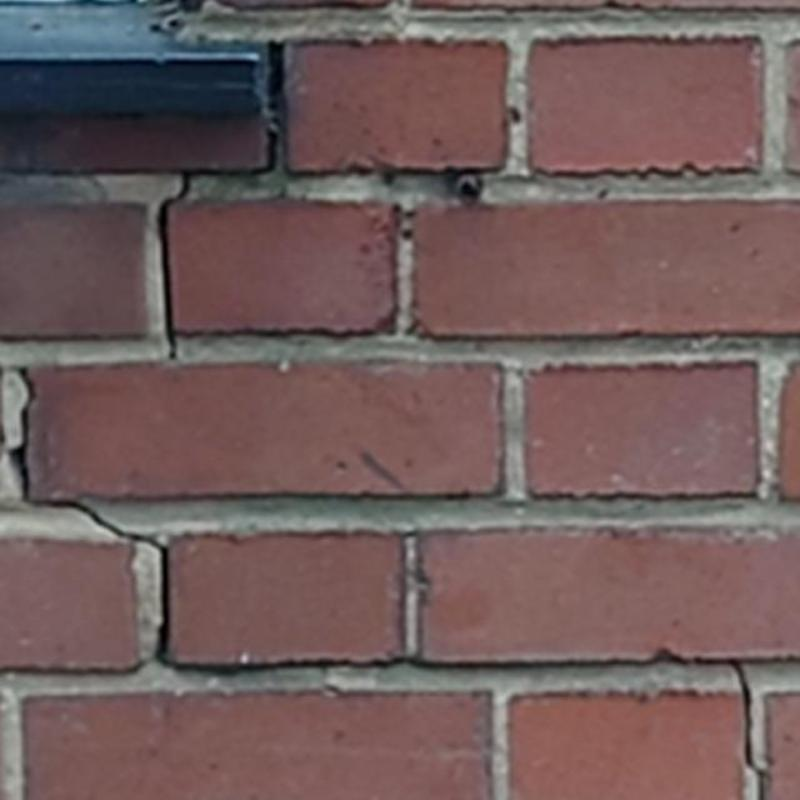crack: (10, 367, 171, 666), (158, 130, 281, 360), (726, 660, 768, 800)
